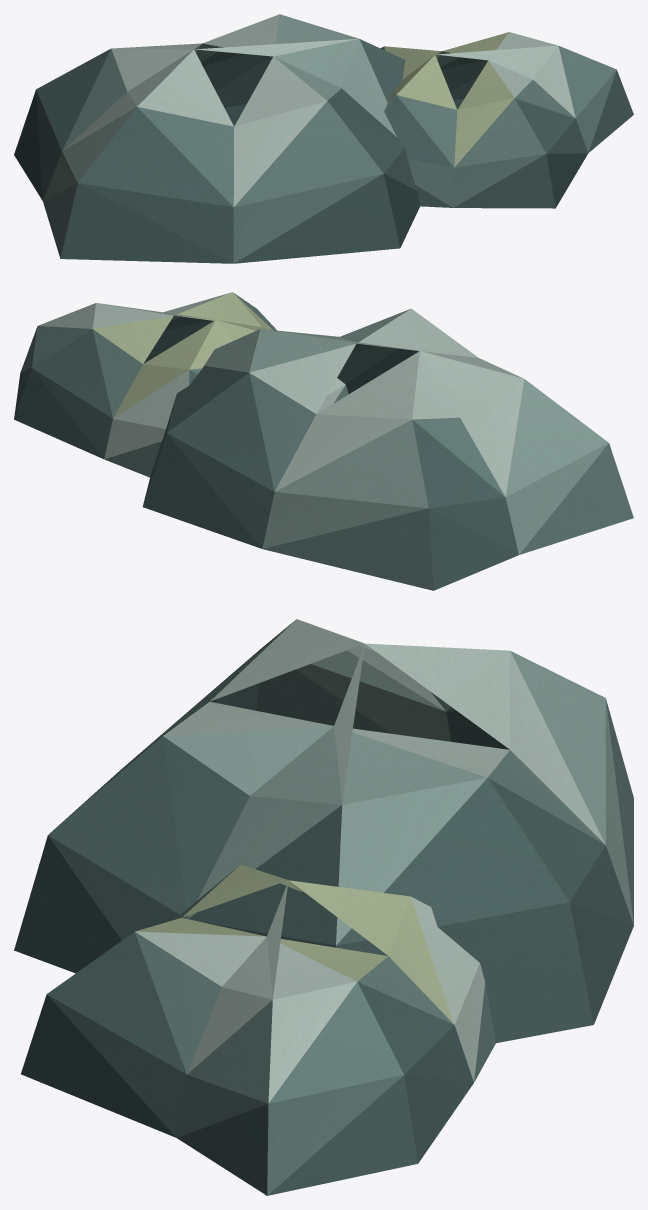
The model's file is 03_shore_rock_C.obj.
The picture shows the model from 3 angles, top to bottom: view 1: azimuth 30°, elevation 25°; view 2: azimuth 150°, elevation 25°; view 3: azimuth 270°, elevation 25°; orthographic projection. The views are drawn at different scales.
Visible parts, largest first — view 1: Shore_Rock_C; view 2: Shore_Rock_C; view 3: Shore_Rock_C.
Boxes of the visible parts, <box> form: Shore_Rock_C: <box>14,14,633,263</box>; Shore_Rock_C: <box>14,292,633,590</box>; Shore_Rock_C: <box>14,619,633,1195</box>.
Bounding box in the file's own units: 1.18 × 0.28 × 0.6827.
1 material, 1 textured.
